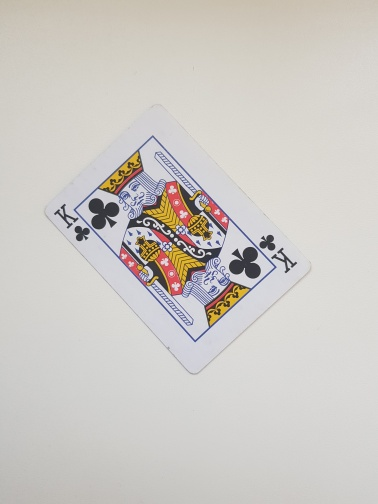king: (41, 101, 313, 375)
